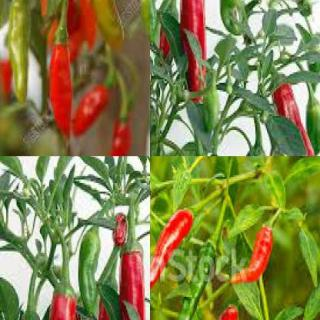green_chilli: (170, 236, 222, 319), (6, 0, 37, 105), (78, 228, 100, 320), (218, 0, 245, 35), (306, 94, 319, 156), (202, 95, 222, 130), (136, 0, 149, 43), (150, 0, 161, 48), (150, 107, 159, 155)
